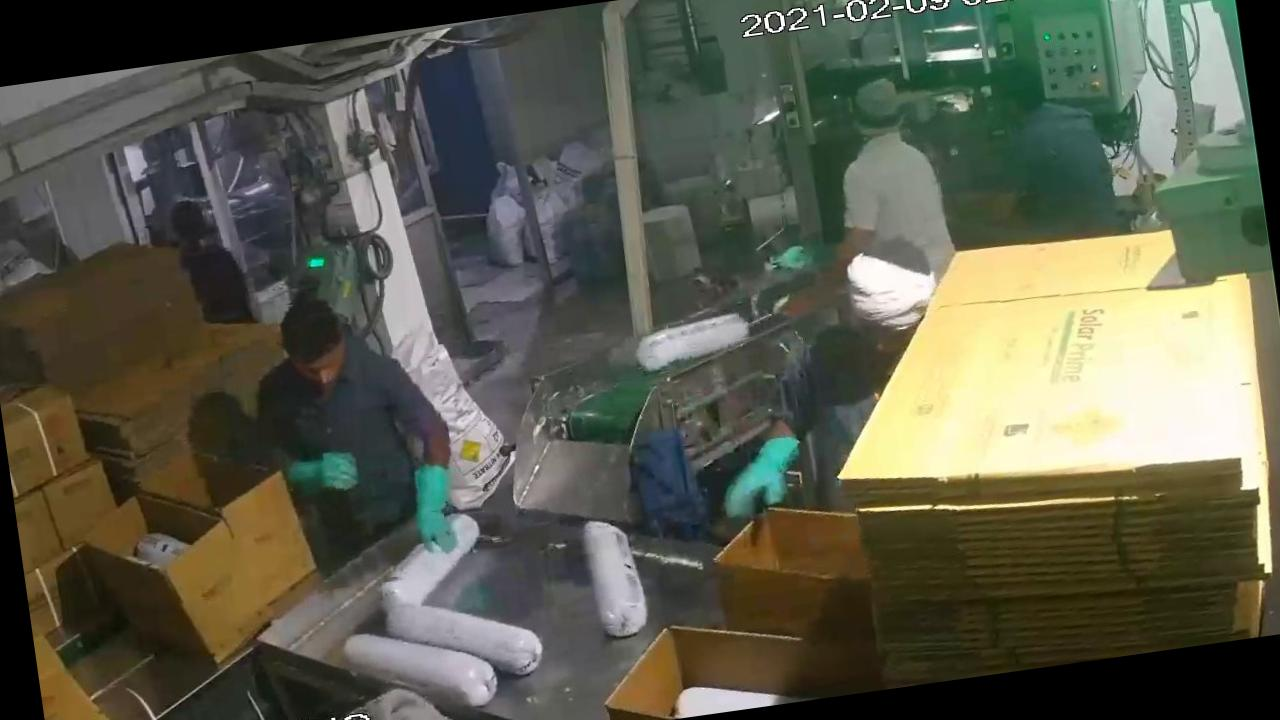Gloves: (388, 444, 480, 572), (706, 424, 812, 526), (250, 434, 368, 518)
No-gloves: (770, 231, 886, 323)
